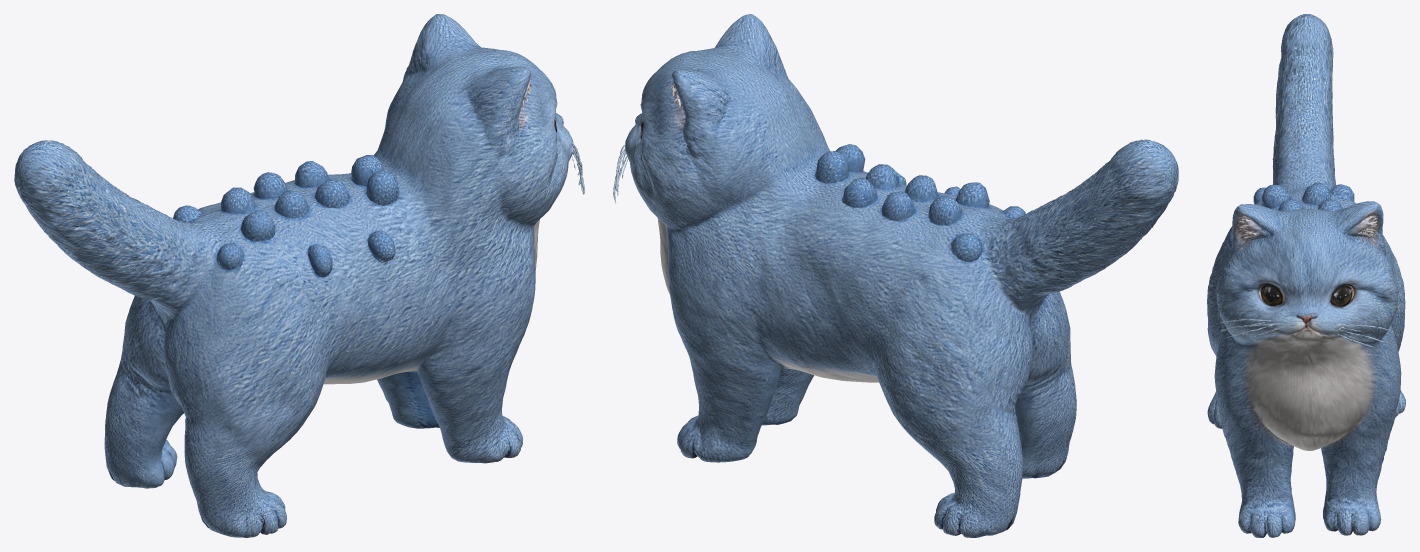
The model's file is CAPOOBUG.glb.
3 views of the same model, side by side, from view 1: azimuth 30°, elevation 25°; view 2: azimuth 150°, elevation 25°; view 3: azimuth 270°, elevation 25° (orthographic). The views are drawn at different scales.
Parts seen in each view (by area): view 1: tripo_node_a12fdd93-83b8-49a0-8604-7ae4620a8386; view 2: tripo_node_a12fdd93-83b8-49a0-8604-7ae4620a8386; view 3: tripo_node_a12fdd93-83b8-49a0-8604-7ae4620a8386.
Boxes of the visible parts, x1,y1,x2,y2 form: tripo_node_a12fdd93-83b8-49a0-8604-7ae4620a8386: [14, 14, 584, 537]; tripo_node_a12fdd93-83b8-49a0-8604-7ae4620a8386: [613, 14, 1178, 537]; tripo_node_a12fdd93-83b8-49a0-8604-7ae4620a8386: [1207, 14, 1405, 537].
Bounding box in the file's own units: 1.44 × 0.9993 × 0.5325.
1 material, 1 textured.
